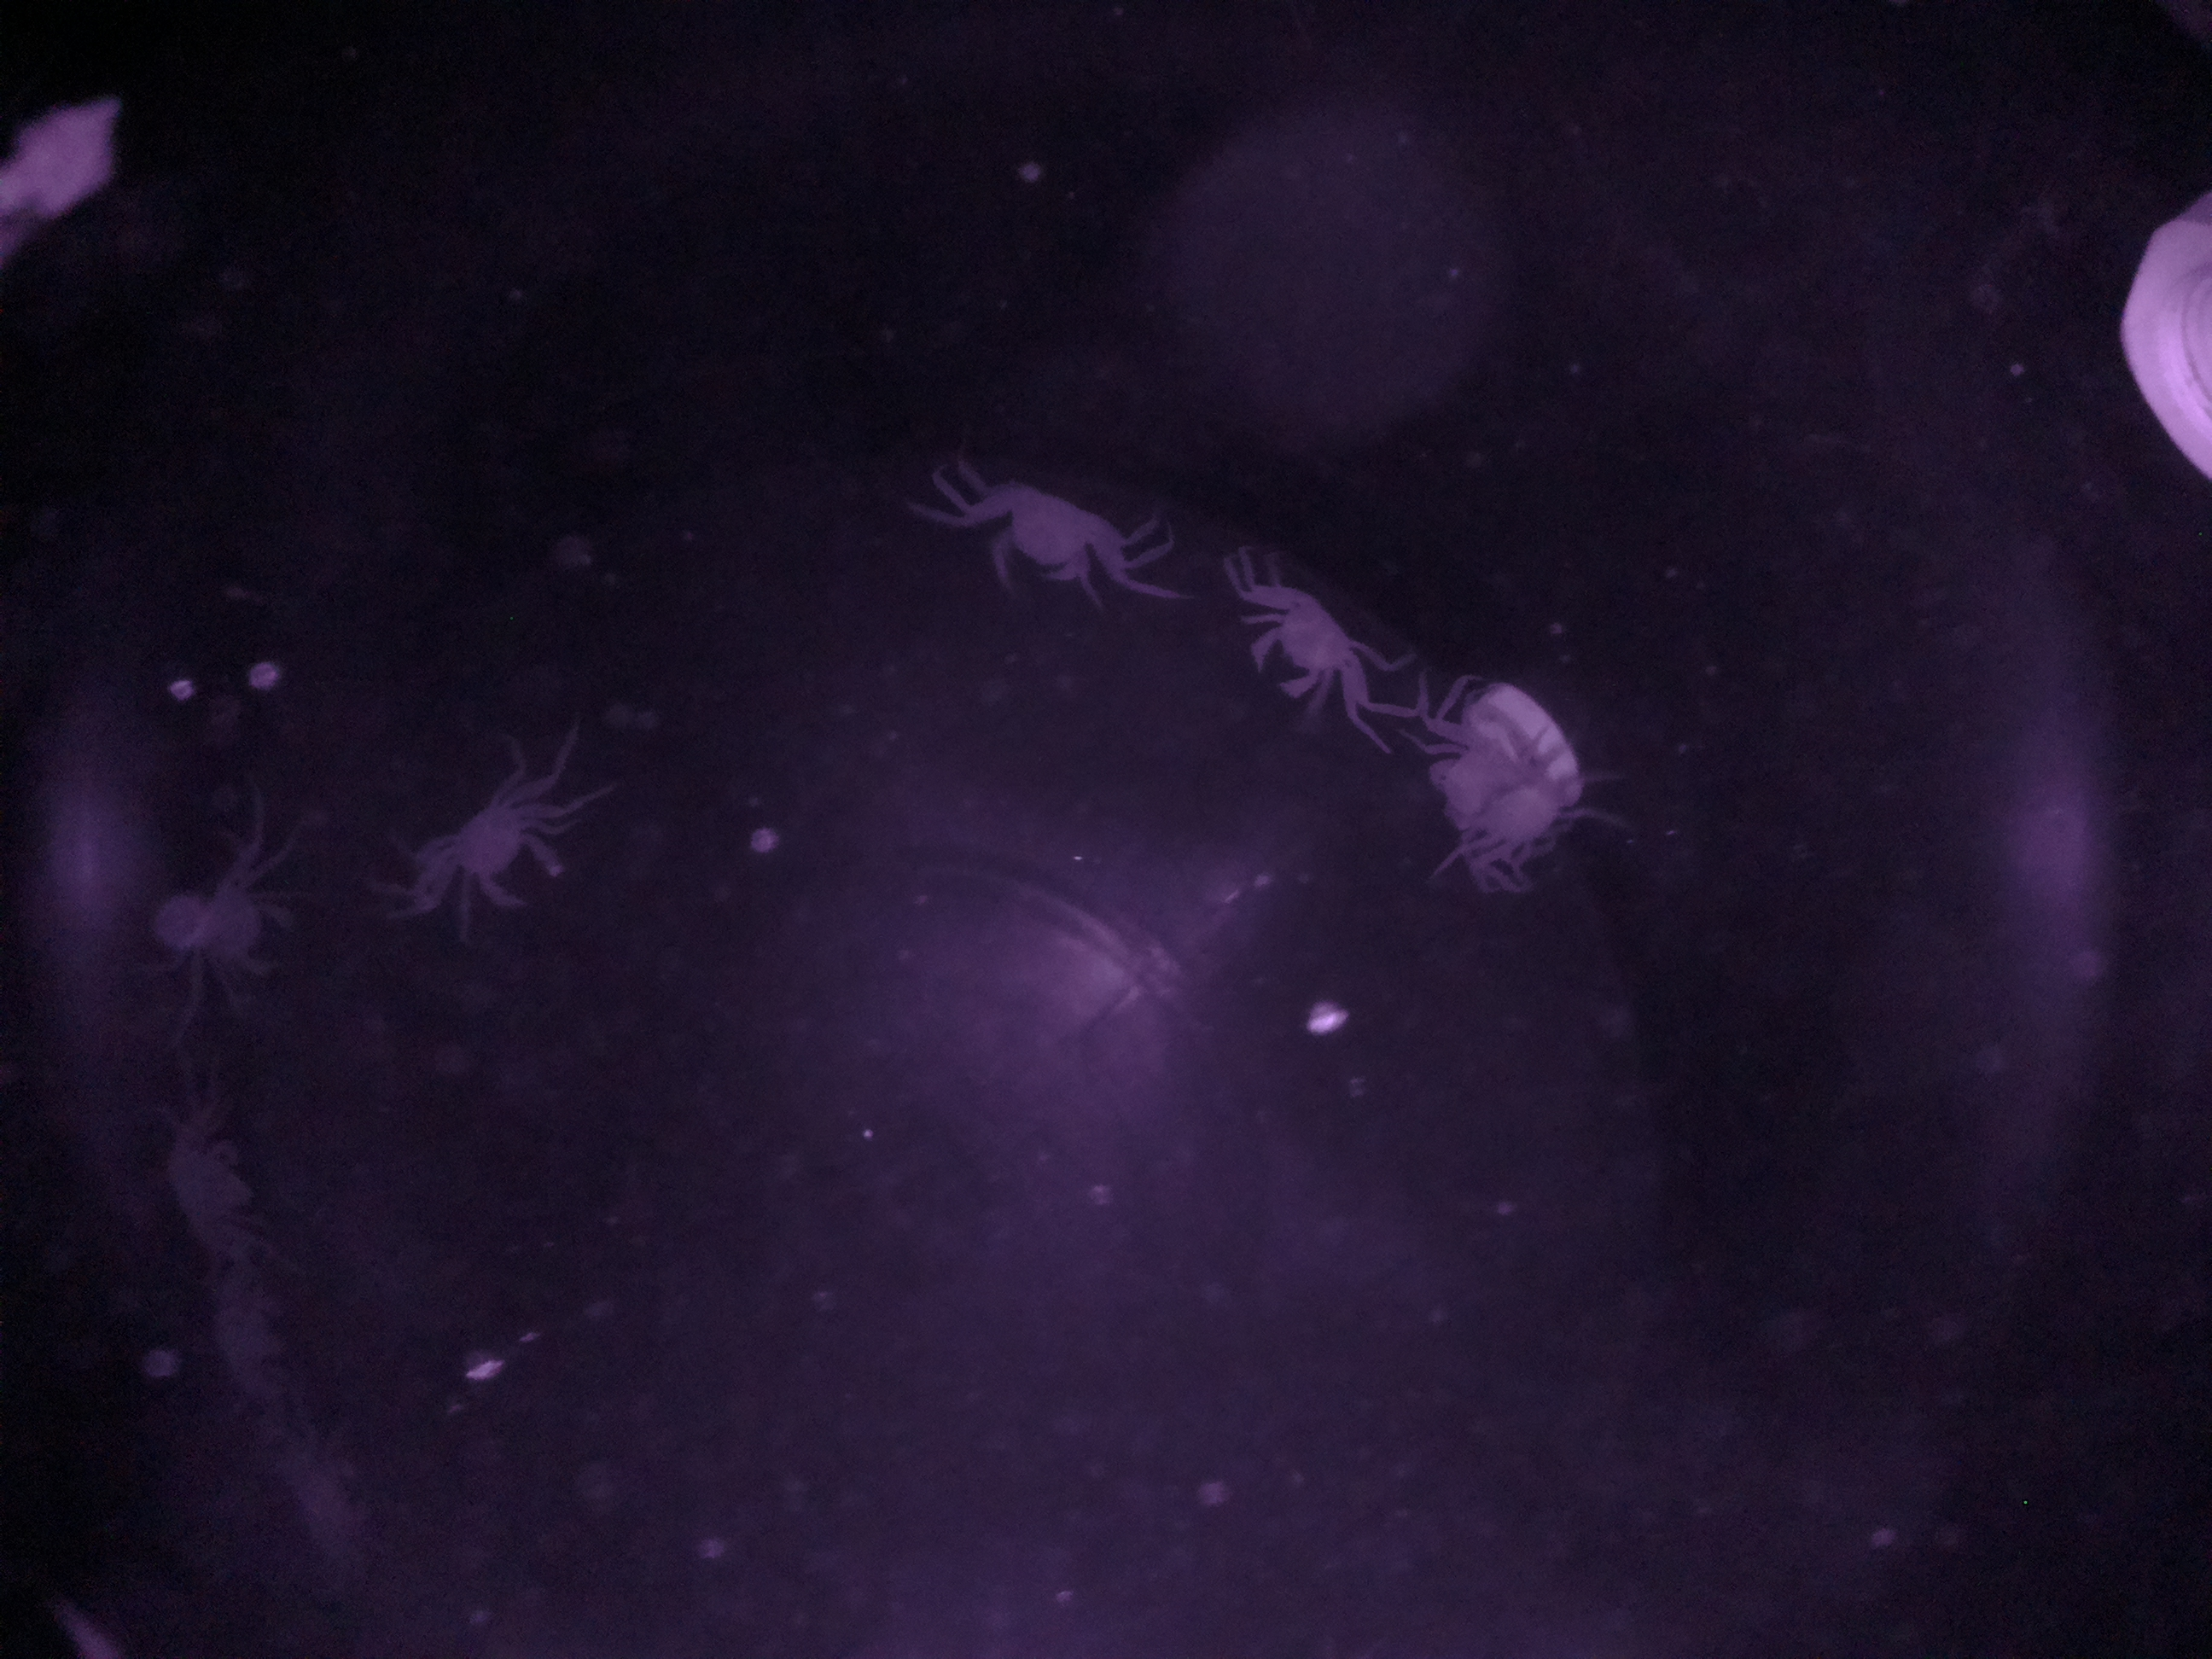Crab: (948, 434, 1155, 647), (394, 751, 606, 939), (155, 833, 329, 1026), (1219, 554, 1386, 734)
